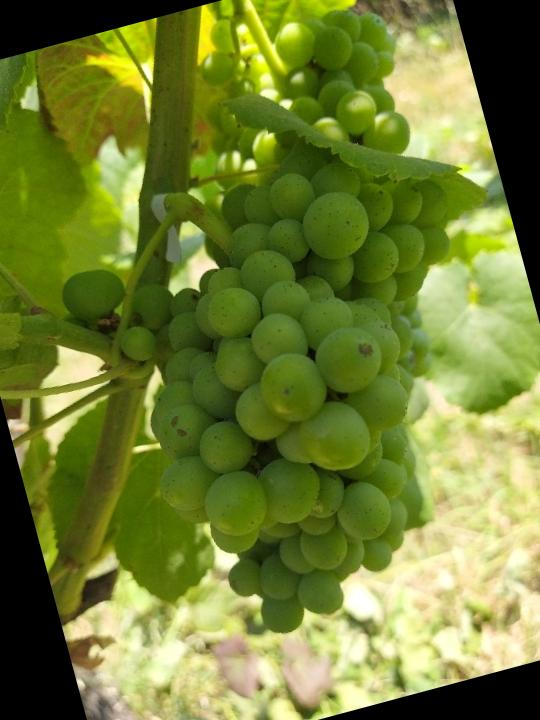grape: (37, 104, 540, 671)
